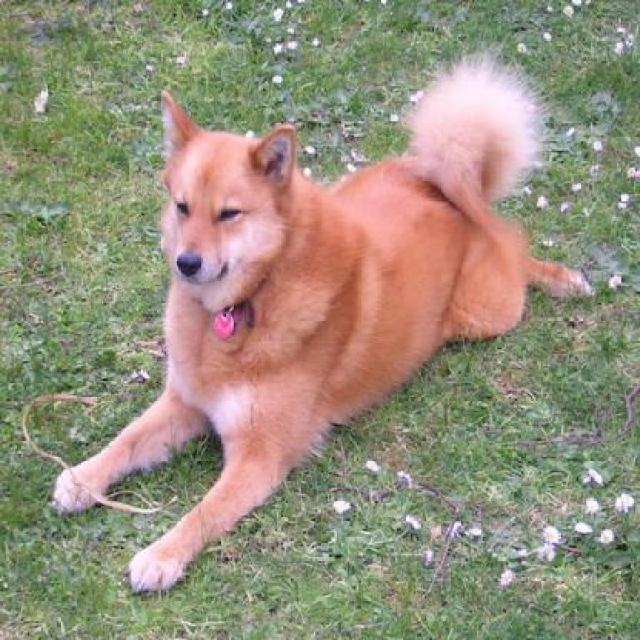animals: (43, 76, 602, 604)
